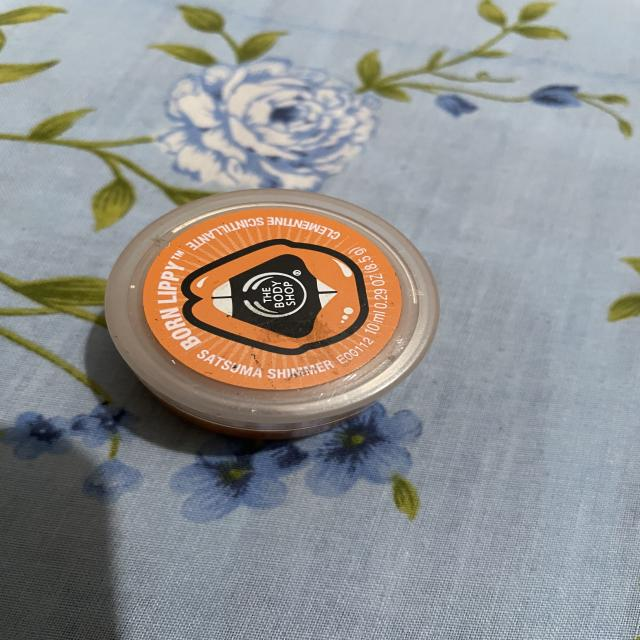lip balm: (94, 180, 452, 455)
